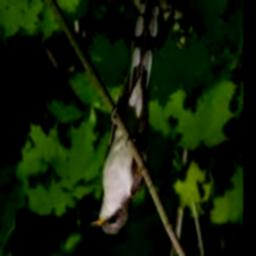Cuckoo: (91, 0, 161, 236)
